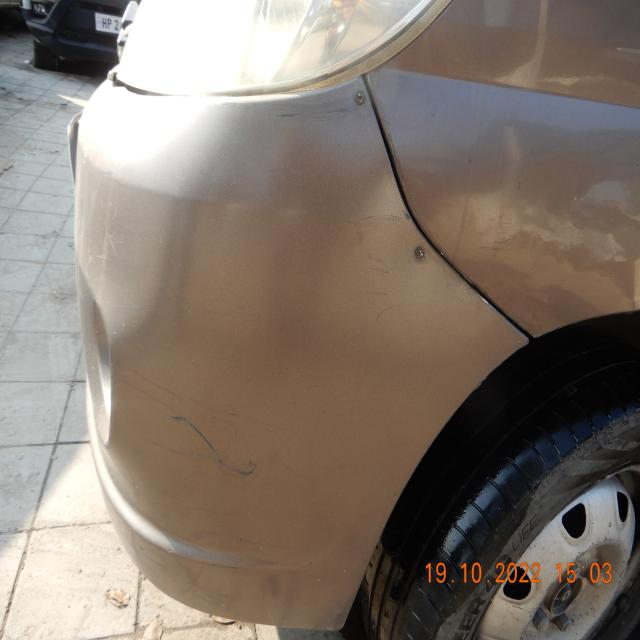damage: (349, 204, 414, 324), (164, 408, 258, 479), (271, 102, 353, 128), (482, 222, 515, 256), (386, 132, 407, 182), (201, 560, 239, 571), (237, 536, 245, 544)
